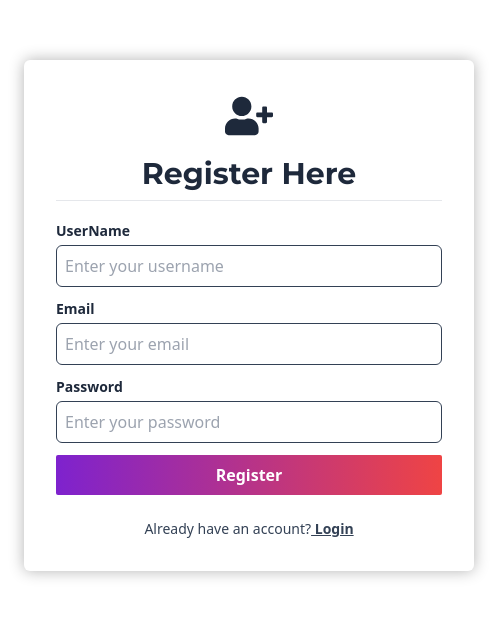
Scenario: Register Component › displays validation errors when form is submitted without values
Note: Submit the form without entering any values
Click the button with test id "register-button".
click(249, 474)  # box [56, 454, 442, 494]
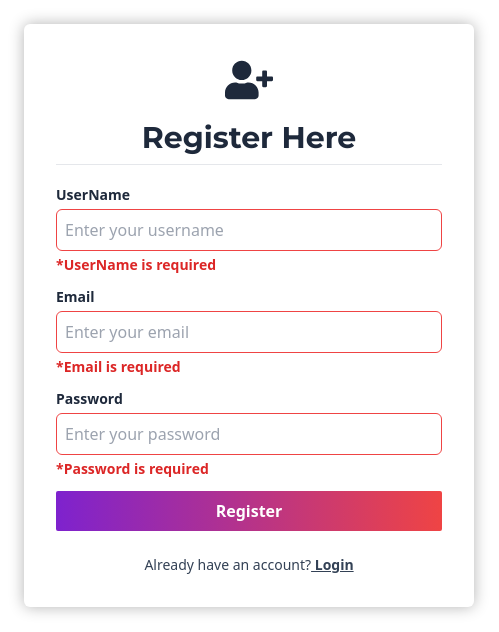
Now the text "*UserName is required" is shown, box [56, 254, 216, 274]
Now the text "*Email is required" is shown, box [56, 356, 181, 376]
Now the text "*Password is required" is shown, box [56, 458, 209, 478]
